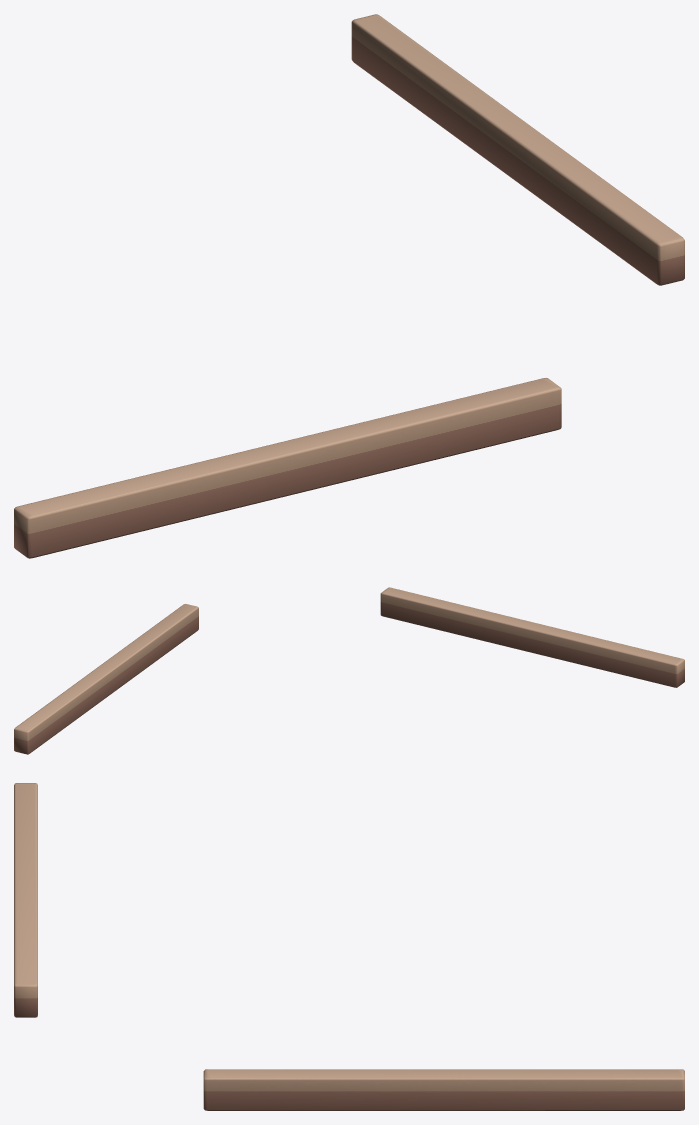
The model's file is Props.fbx.
3 views of the same model, one above another, from view 1: azimuth 30°, elevation 25°; view 2: azimuth 150°, elevation 25°; view 3: azimuth 270°, elevation 25° (orthographic). The views are drawn at different scales.
Visible parts, largest first — view 1: Box20-3_1 (1), Box20-3_1; view 2: Box20-3_1 (1), Box20-3_1; view 3: Box20-3_1, Box20-3_1 (1).
Boxes of the visible parts, x1,y1,x2,y2 form: Box20-3_1 (1): (14,378,561,558); Box20-3_1: (351,14,684,285); Box20-3_1 (1): (380,587,684,687); Box20-3_1: (14,604,198,754); Box20-3_1: (203,1069,684,1110); Box20-3_1 (1): (14,783,37,1017).
Size of the model in its own units: 29.16 by 1.5 by 27.89.
